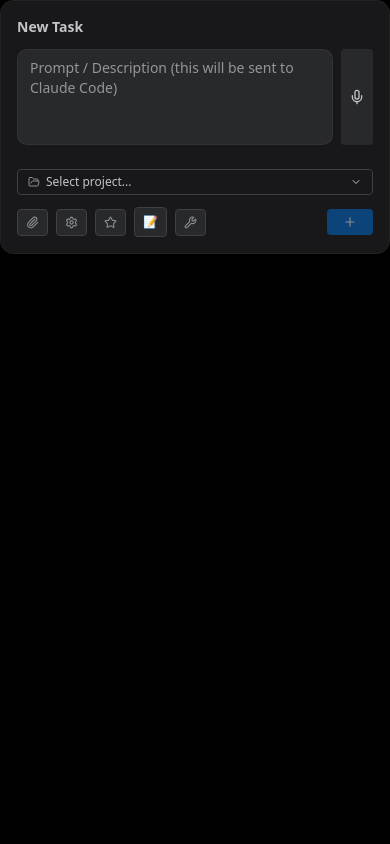
Test: TaskForm number input fields › maxIterations (loop mode) › rejects non-numeric characters
Click the 2nd button "Config": (72,222) [56,208,87,236]
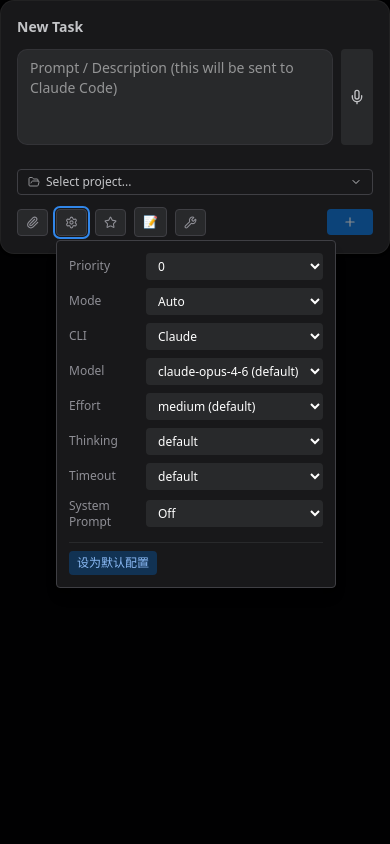
Expected: the 2nd dropdown showing "Auto" is shown
Select "Loop" in the 2nd dropdown showing "Auto": (234,301) [146,288,323,314]
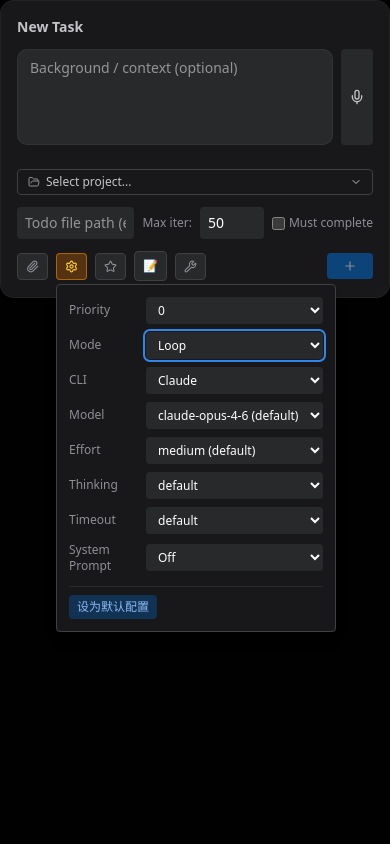
Replace the text in the field showing "50" with "abc12.3xyz": (232,223) [200,207,264,239]
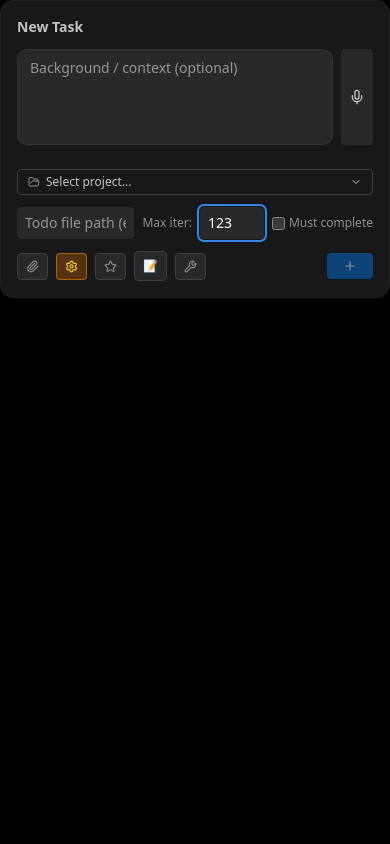
Expected: the field showing "50" holds "123", [200,207,264,239]
